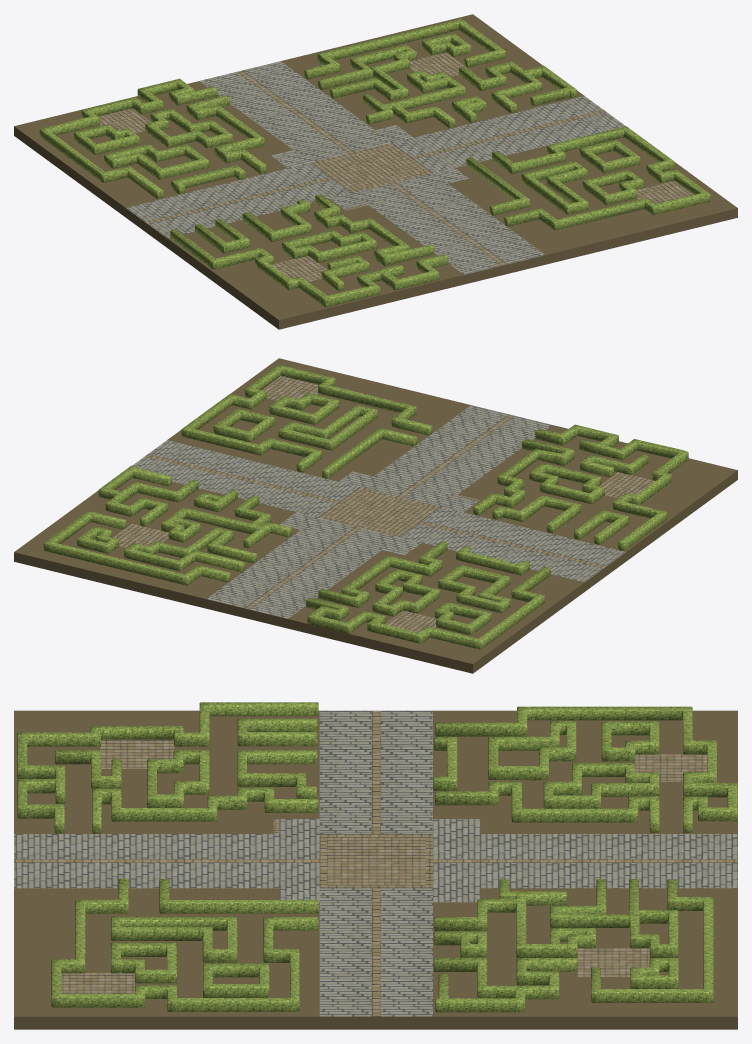
Rendered from RLGL_Level meshes.fbx.
3 views of the same model, one above another, from view 1: azimuth 30°, elevation 25°; view 2: azimuth 150°, elevation 25°; view 3: azimuth 270°, elevation 25° (orthographic). The views are drawn at different scales.
Visible parts, largest first — view 1: Floor, Hagen; view 2: Floor, Hagen; view 3: Floor, Hagen.
Part boxes in pixels (x1,y1,x2,y2): Floor: [14, 14, 737, 329]; Hagen: [39, 18, 710, 307]; Floor: [14, 358, 737, 673]; Hagen: [43, 364, 688, 649]; Floor: [14, 710, 737, 1029]; Hagen: [17, 702, 737, 1012].
Bounding box in the file's own units: 5000 × 191 × 5000.
